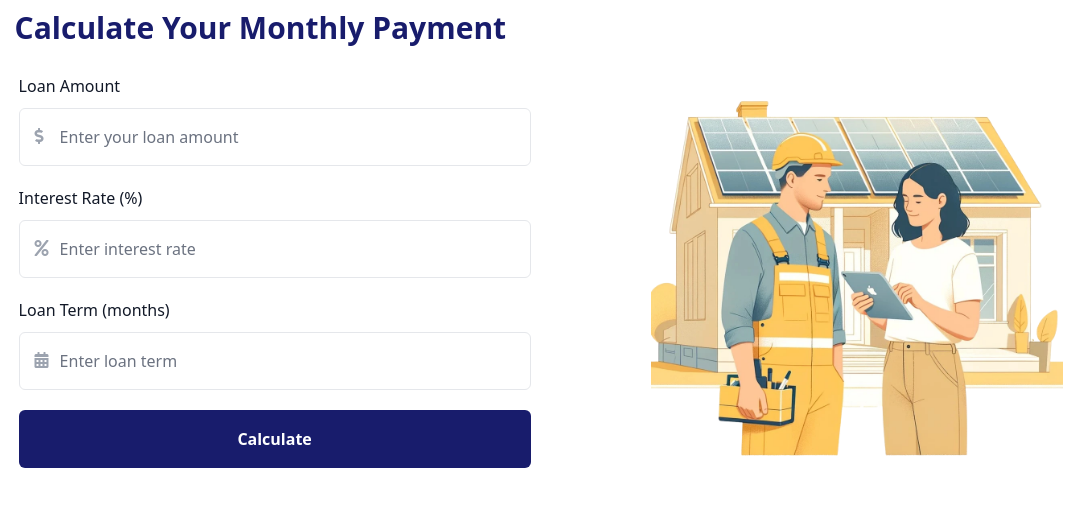
Test: Should calculate monthly payment when inputs are valid
Type "10000" into the number field with placeholder "Enter your loan amount" at (275, 137), box [19,108,531,166]
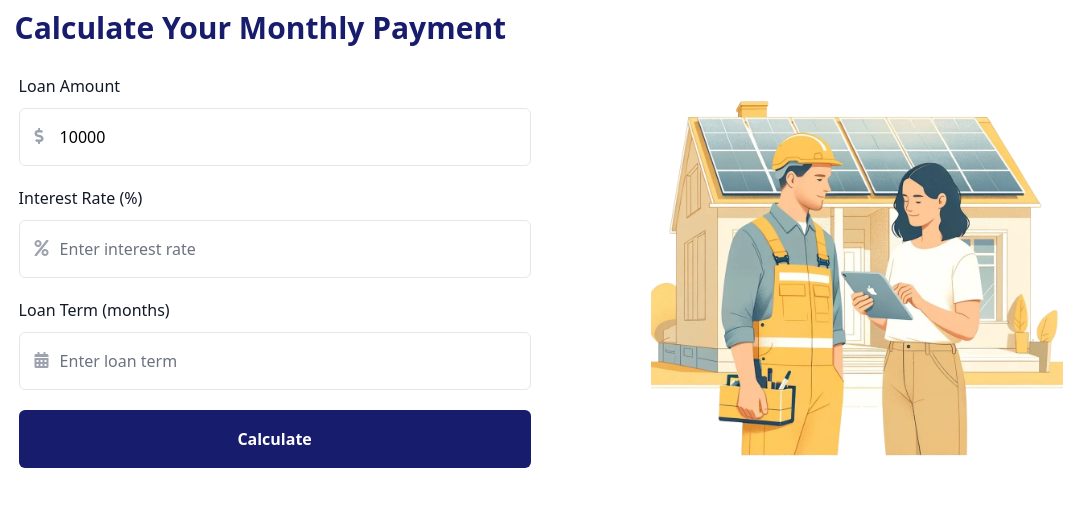
Type "5" into the number field with placeholder "Enter interest rate" at (275, 249), box [19,220,531,278]
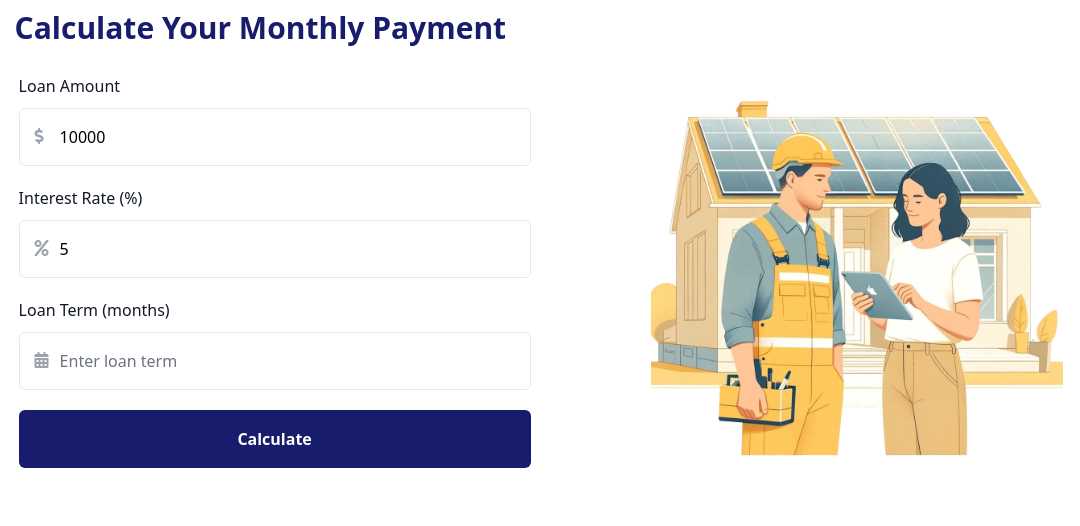
Type "60" into the number field with placeholder "Enter loan term" at (275, 361), box [19,332,531,390]
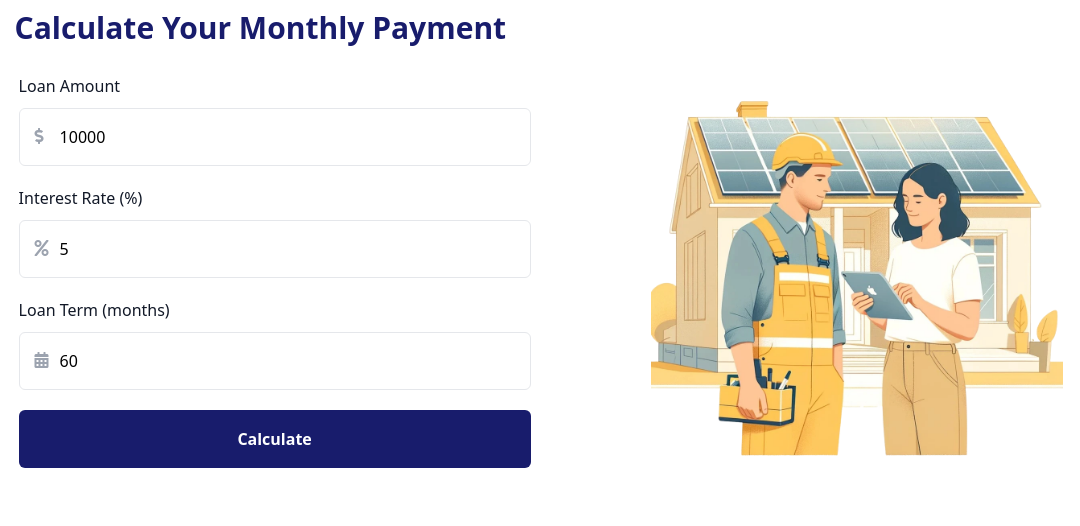
Click the button "Calculate" at (275, 439), box [19,410,531,468]
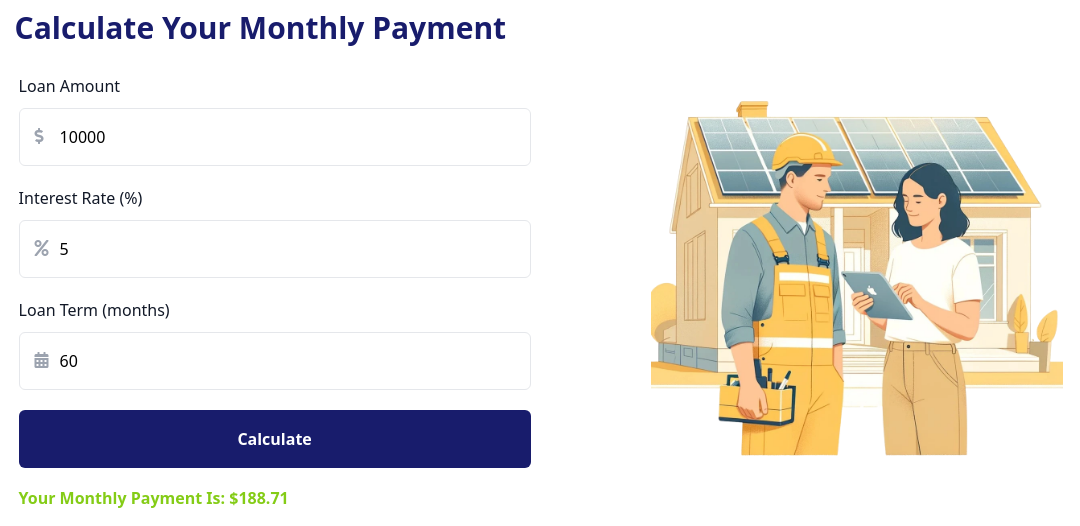
Check: the heading "Your Monthly Payment Is: $188.71" is shown, box [19,487,289,509]
